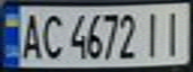2: (118, 9, 142, 61)
4: (66, 10, 87, 60)
6: (84, 10, 106, 61)
7: (103, 10, 121, 61)
A: (15, 9, 45, 61)
C: (36, 10, 66, 61)
I: (157, 7, 190, 57), (139, 8, 166, 60)
